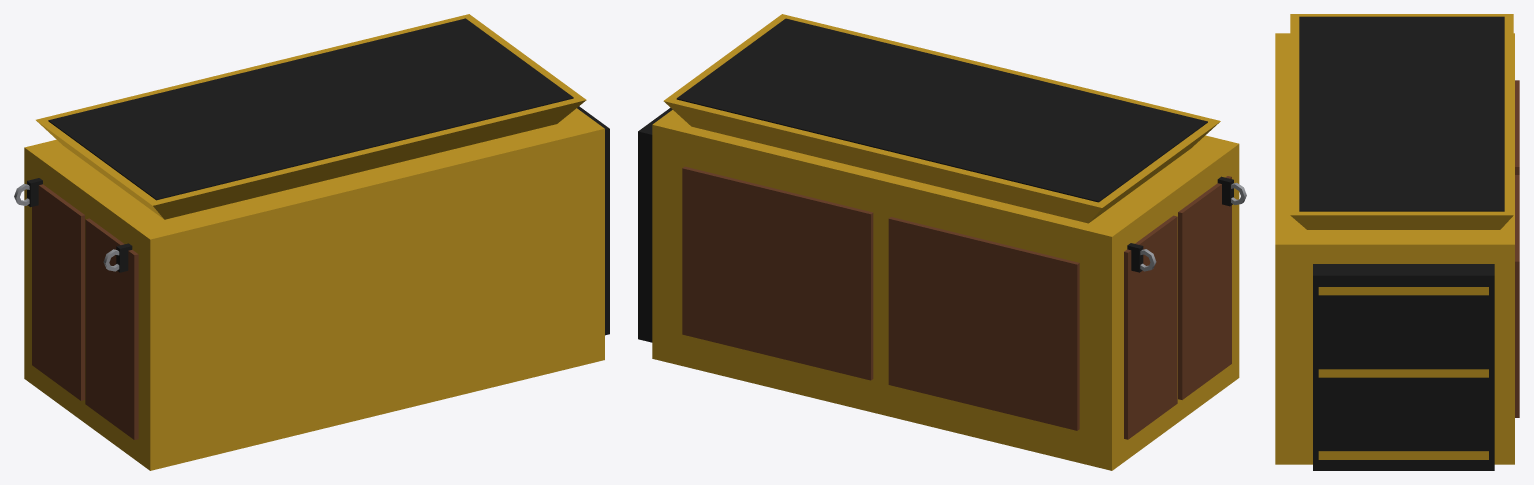
File: md40_feed.obj
3 views of the same model, side by side, from view 1: azimuth 30°, elevation 25°; view 2: azimuth 150°, elevation 25°; view 3: azimuth 270°, elevation 25° (orthographic). The views are drawn at different scales.
Visible parts, largest first — view 1: md40_feed; view 2: md40_feed; view 3: md40_feed.
Boxes of the visible parts, x1=… form: md40_feed: x1=14, y1=14, x2=609, y2=470; md40_feed: x1=638, y1=14, x2=1246, y2=470; md40_feed: x1=1275, y1=14, x2=1519, y2=470.
Bounding box in the file's own units: 4.9 × 2.39 × 2.15.
